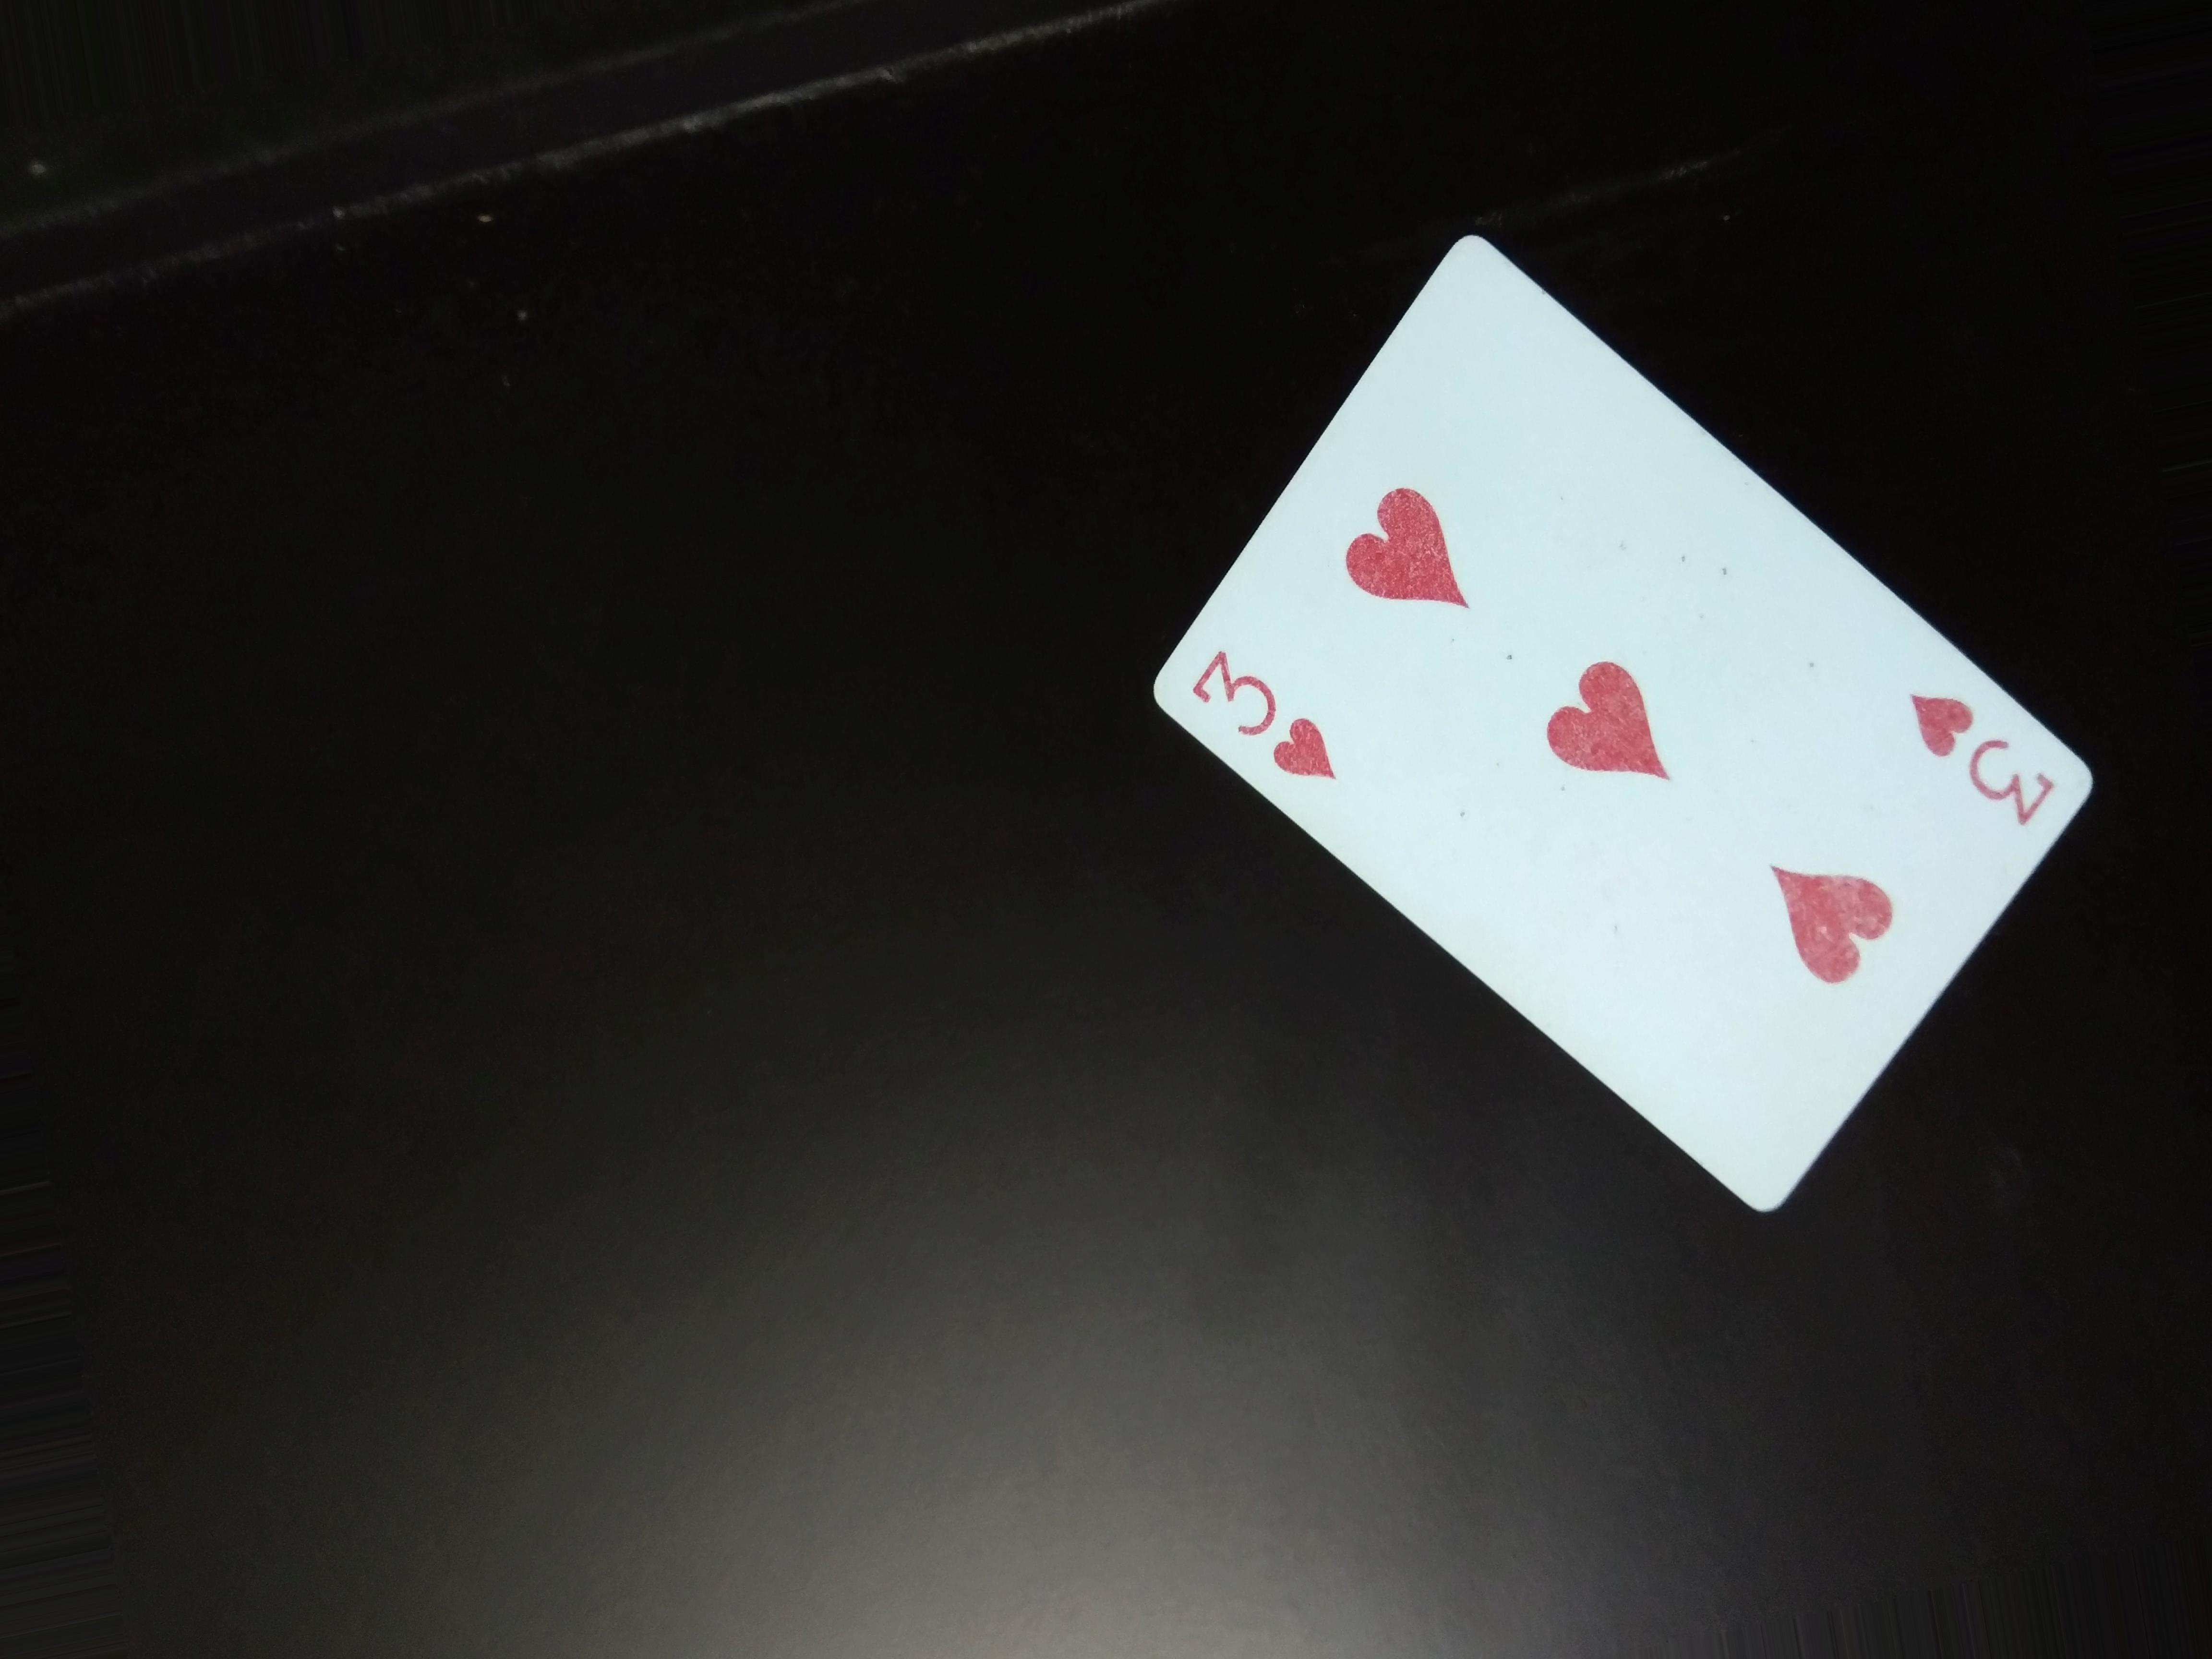3H: (1881, 666, 2071, 859)
